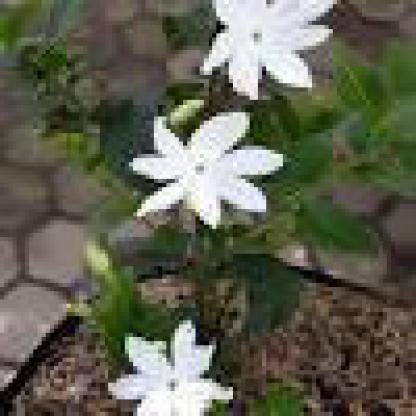Melati: (126, 92, 292, 230), (97, 309, 309, 413), (197, 1, 326, 101)
